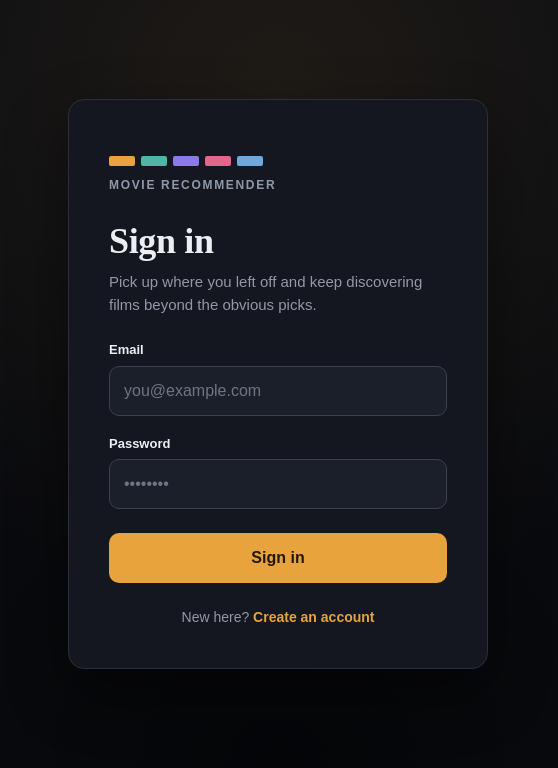
it: AuthForm › leaves the login pending state and reports a network failure
This screenshot has width=558, height=768.
In the field labelled "Email": point(278, 391) [109,366,447,416], type "person@example.com"
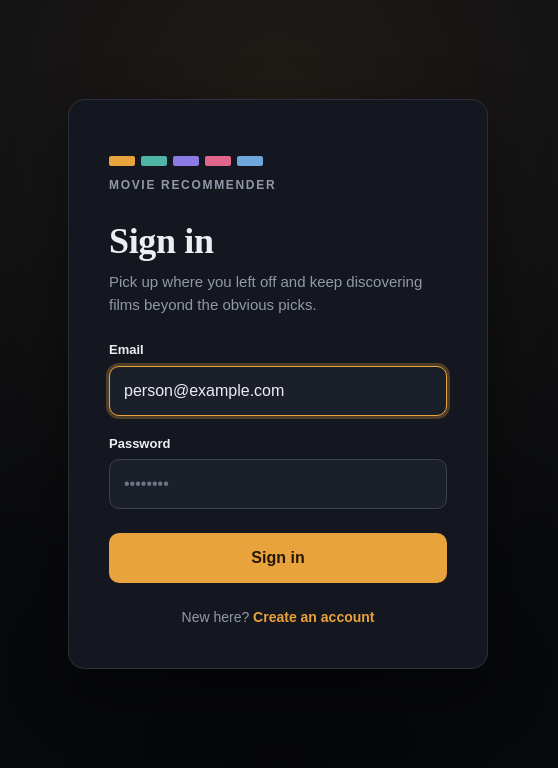
In the password field labelled "Password": point(278, 484) [109,459,447,509], type "password123"
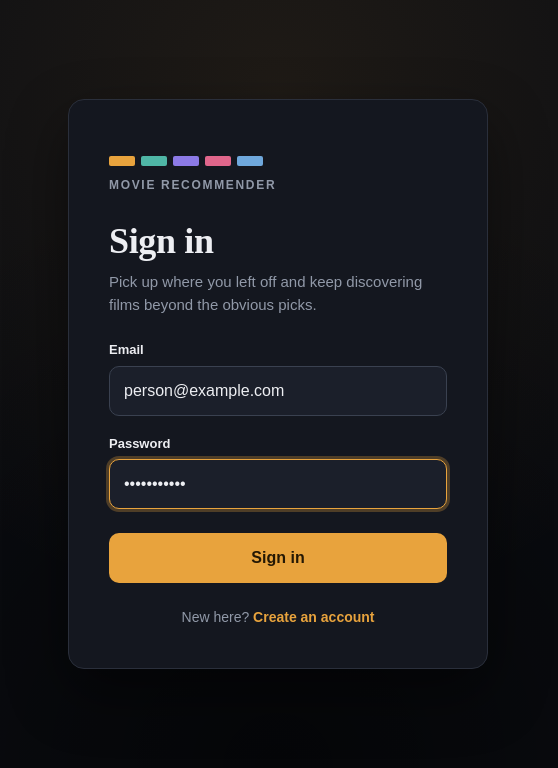
Click the button "Sign in": point(278, 558) [109,533,447,583]
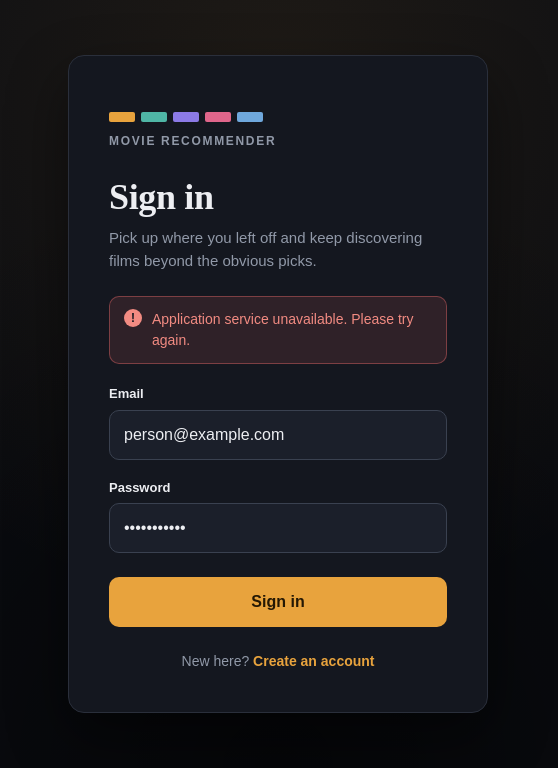
Expected: the button "Sign in" is enabled, [109,577,447,627]
Expected: the message shows "Application service unavailable", [152,311,414,348]
